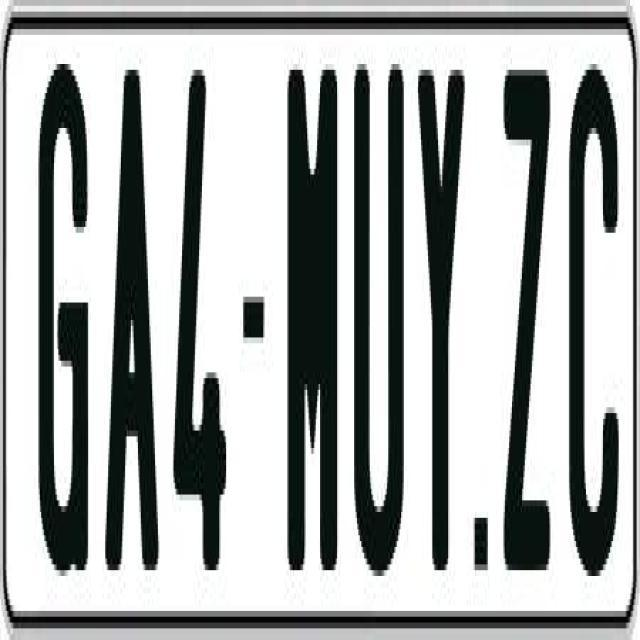4: (170, 58, 230, 576)
A: (104, 70, 164, 570)
C: (566, 58, 619, 588)
G: (34, 52, 90, 582)
M: (287, 70, 340, 570)
U: (352, 58, 406, 570)
Y: (416, 52, 466, 570)
Z: (504, 64, 550, 582)
